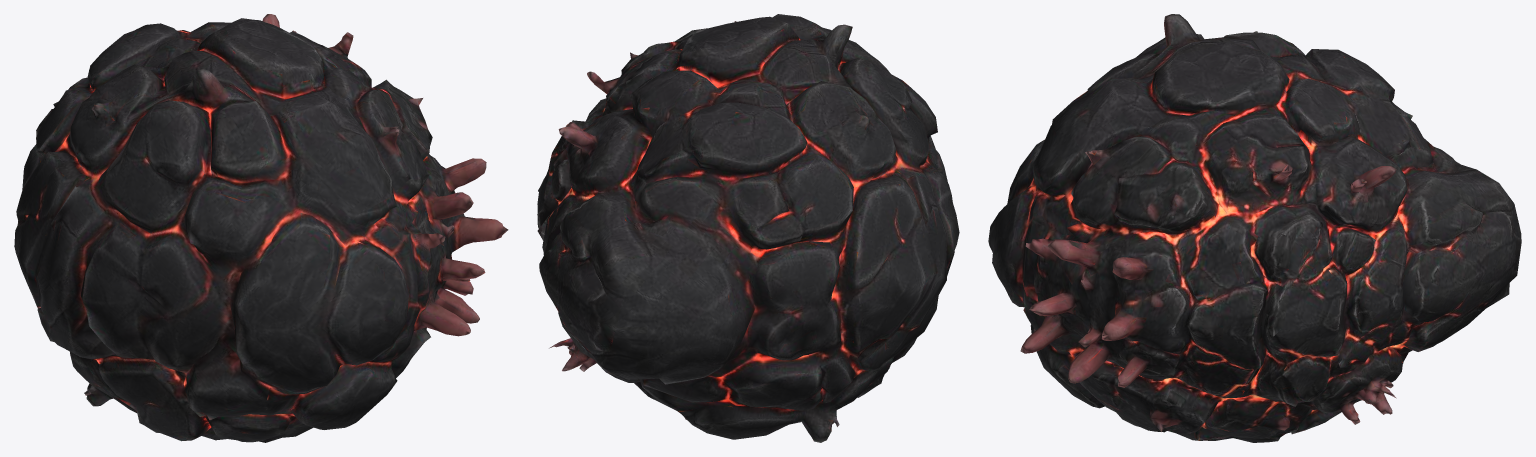
File: skarn.glb
The picture shows the model from 3 angles, left to right: view 1: azimuth 30°, elevation 25°; view 2: azimuth 150°, elevation 25°; view 3: azimuth 270°, elevation 25°; orthographic projection. The views are drawn at different scales.
Visible parts, largest first — view 1: skarn2-master; view 2: skarn2-master; view 3: skarn2-master.
Part boxes in pixels (x1,y1,x2,y2): skarn2-master: (14, 14, 508, 442); skarn2-master: (537, 14, 959, 442); skarn2-master: (988, 14, 1521, 442).
Size of the model in its own units: 1.59 by 1.49 by 1.88.
1 material, 1 textured.
